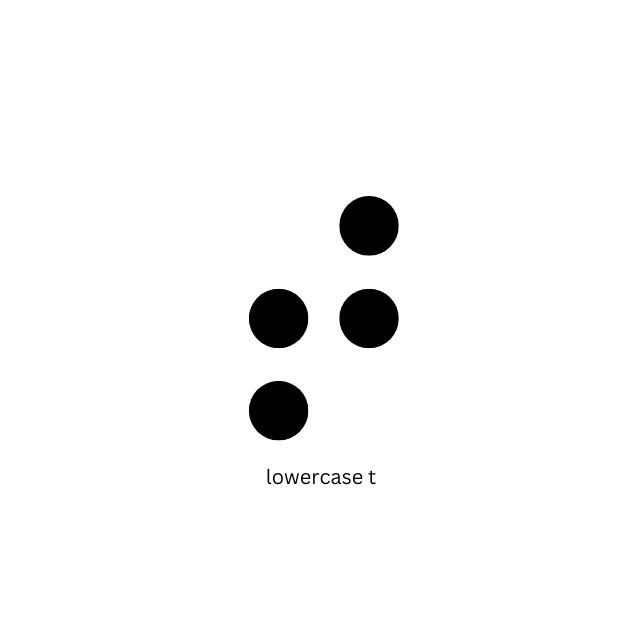letter_t: (248, 194, 399, 442)
